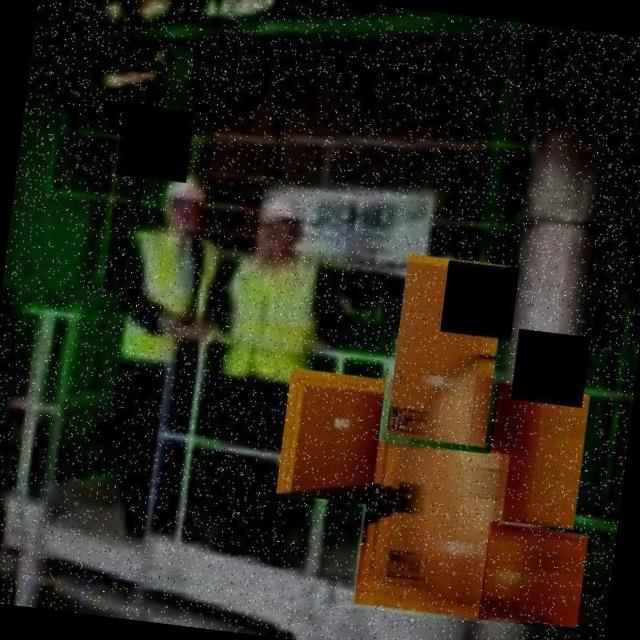box: (350, 437, 509, 624), (384, 250, 507, 452), (479, 381, 591, 532), (272, 366, 388, 507), (478, 520, 590, 632)
